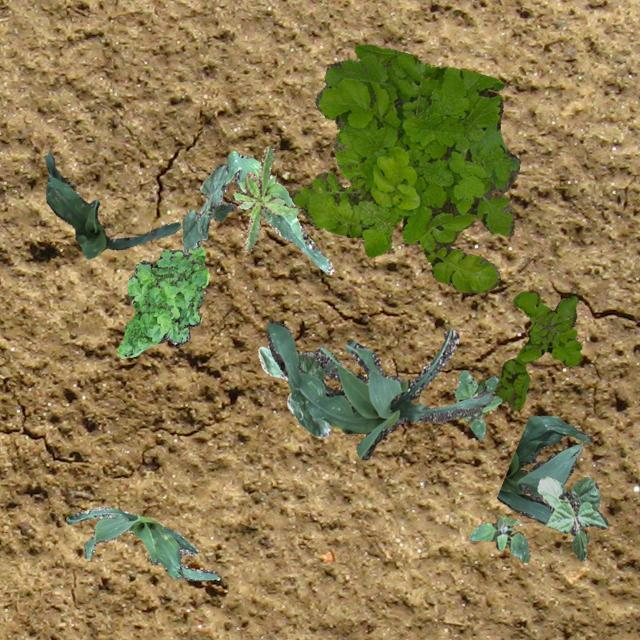crop: (266, 320, 492, 458), (190, 150, 332, 274), (44, 152, 180, 258), (66, 506, 218, 580), (496, 414, 592, 524), (258, 346, 330, 436), (536, 474, 606, 560), (182, 164, 234, 252)
weed: (288, 44, 520, 292), (478, 288, 580, 409), (115, 242, 208, 358), (232, 144, 300, 250), (452, 370, 500, 440), (468, 514, 528, 560), (536, 314, 566, 341)
